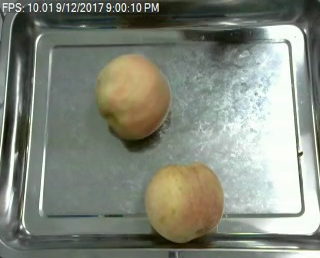Peach: (94, 52, 171, 141), (146, 161, 224, 244)
